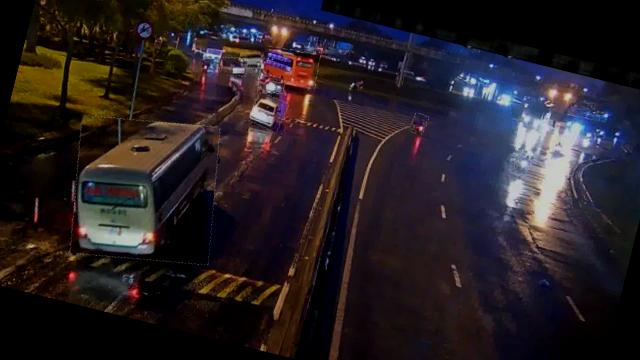Bike: (514, 148, 534, 178), (409, 112, 428, 136)
Bus: (56, 100, 235, 280), (258, 43, 322, 92), (219, 55, 249, 80)
Car: (248, 92, 288, 132), (256, 70, 286, 97), (237, 49, 265, 72), (224, 56, 250, 77)
